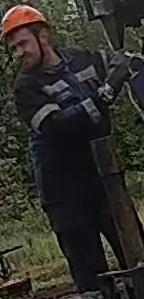gloves: (93, 47, 135, 110)
helmet: (0, 4, 50, 43)
vest: (14, 49, 110, 194)
